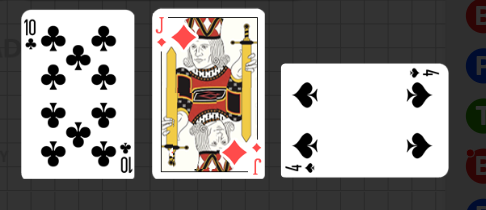10C: (24, 18, 39, 52)
4S: (407, 67, 441, 80), (284, 162, 317, 175)
